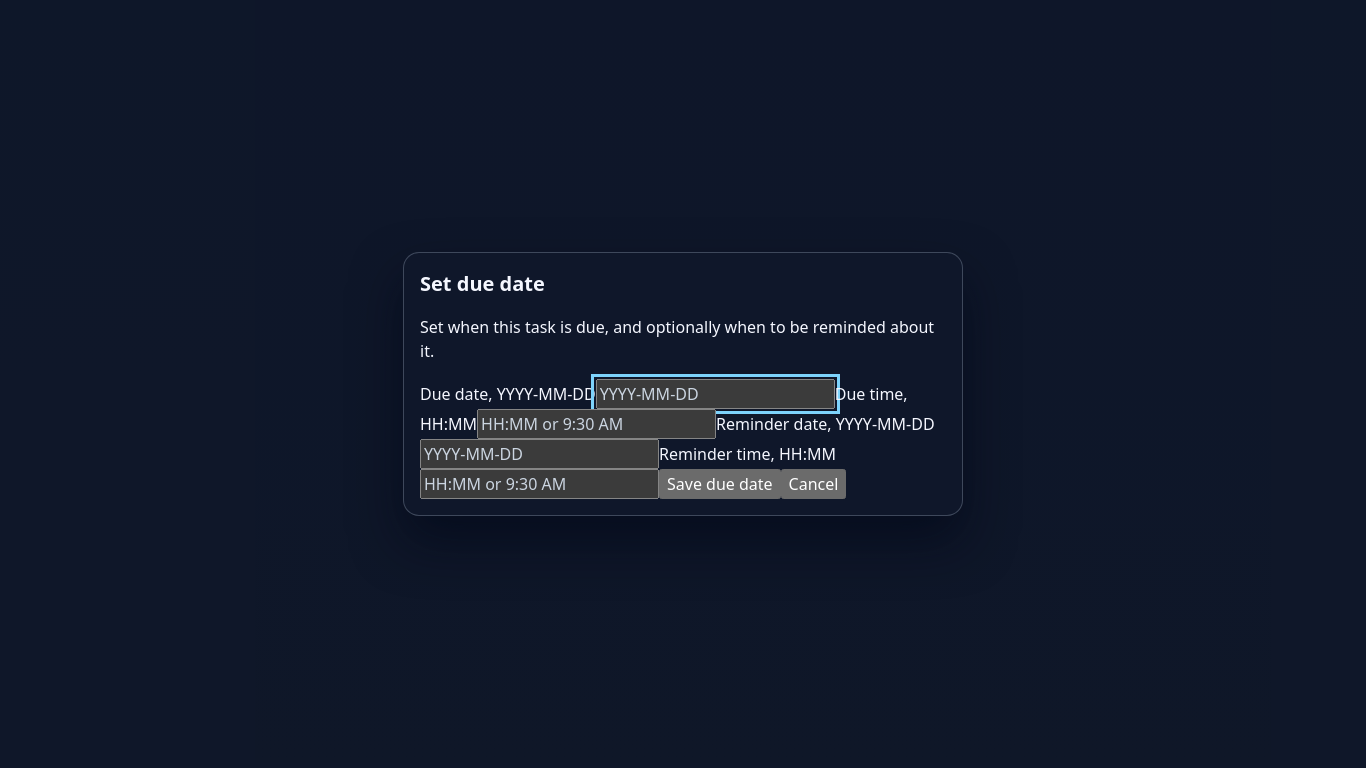
Test case: task schedule dialog › refuses a due time without a due date
Type "09:30" into the field labelled "Due time, HH:MM" at coordinates (596, 424), box [477,409,716,439]
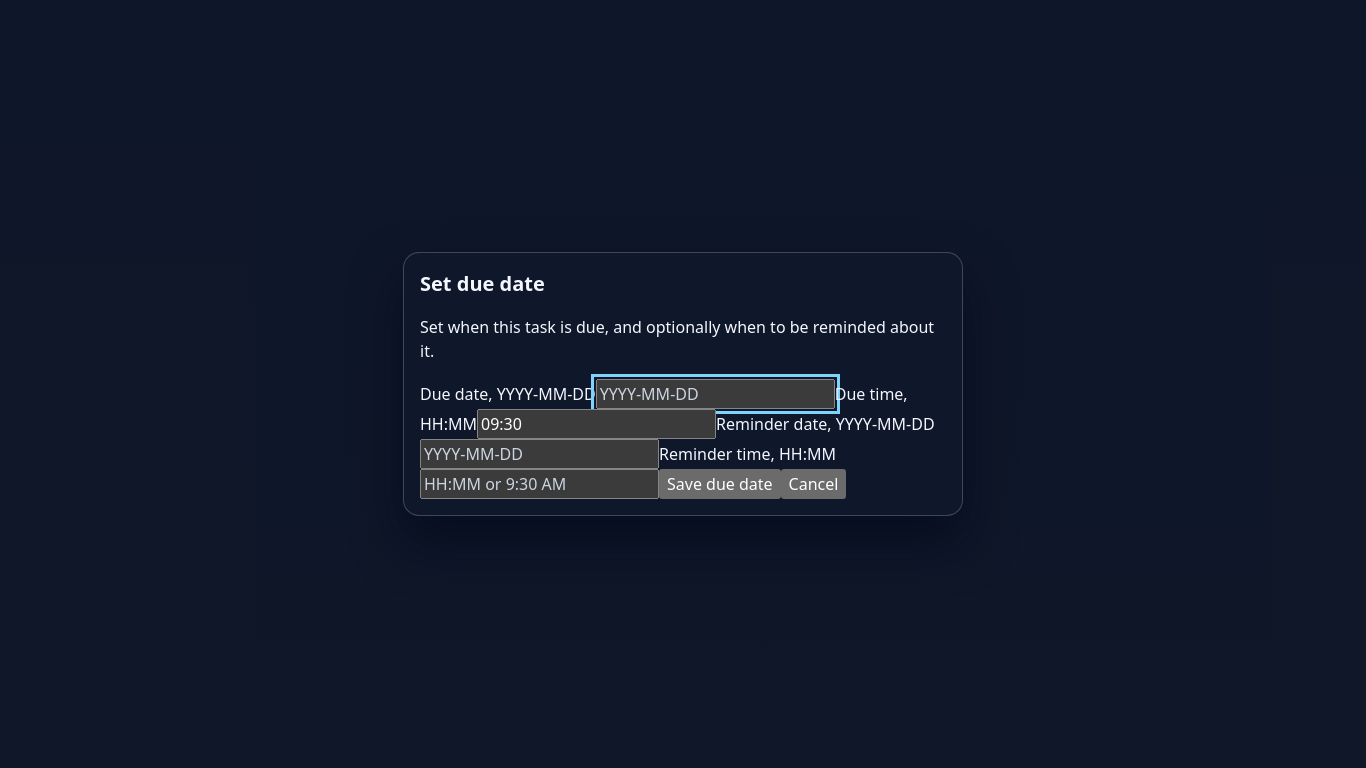
Click the button "Save due date" at coordinates (720, 484), box [659,469,781,499]
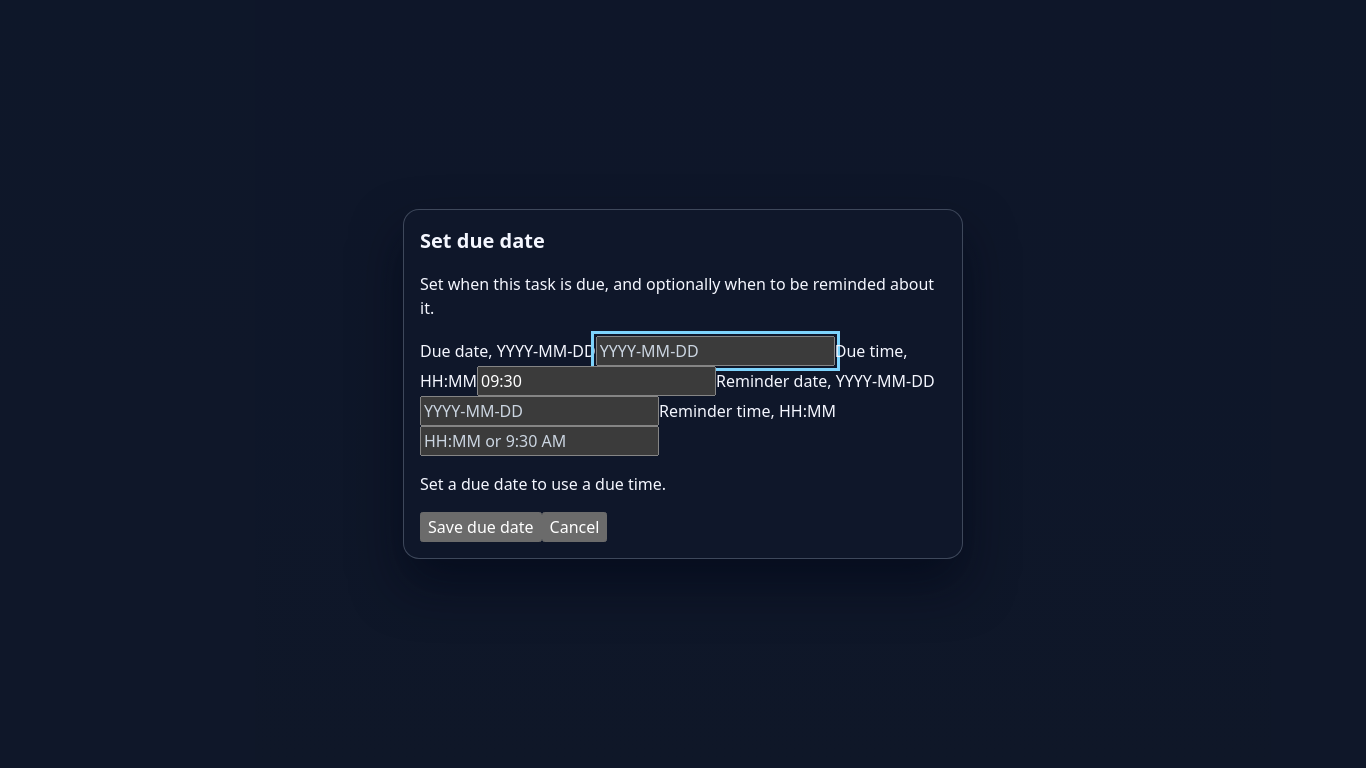
Expected: the message reads "Set a due date to use a due time.", [420,473,666,495]
